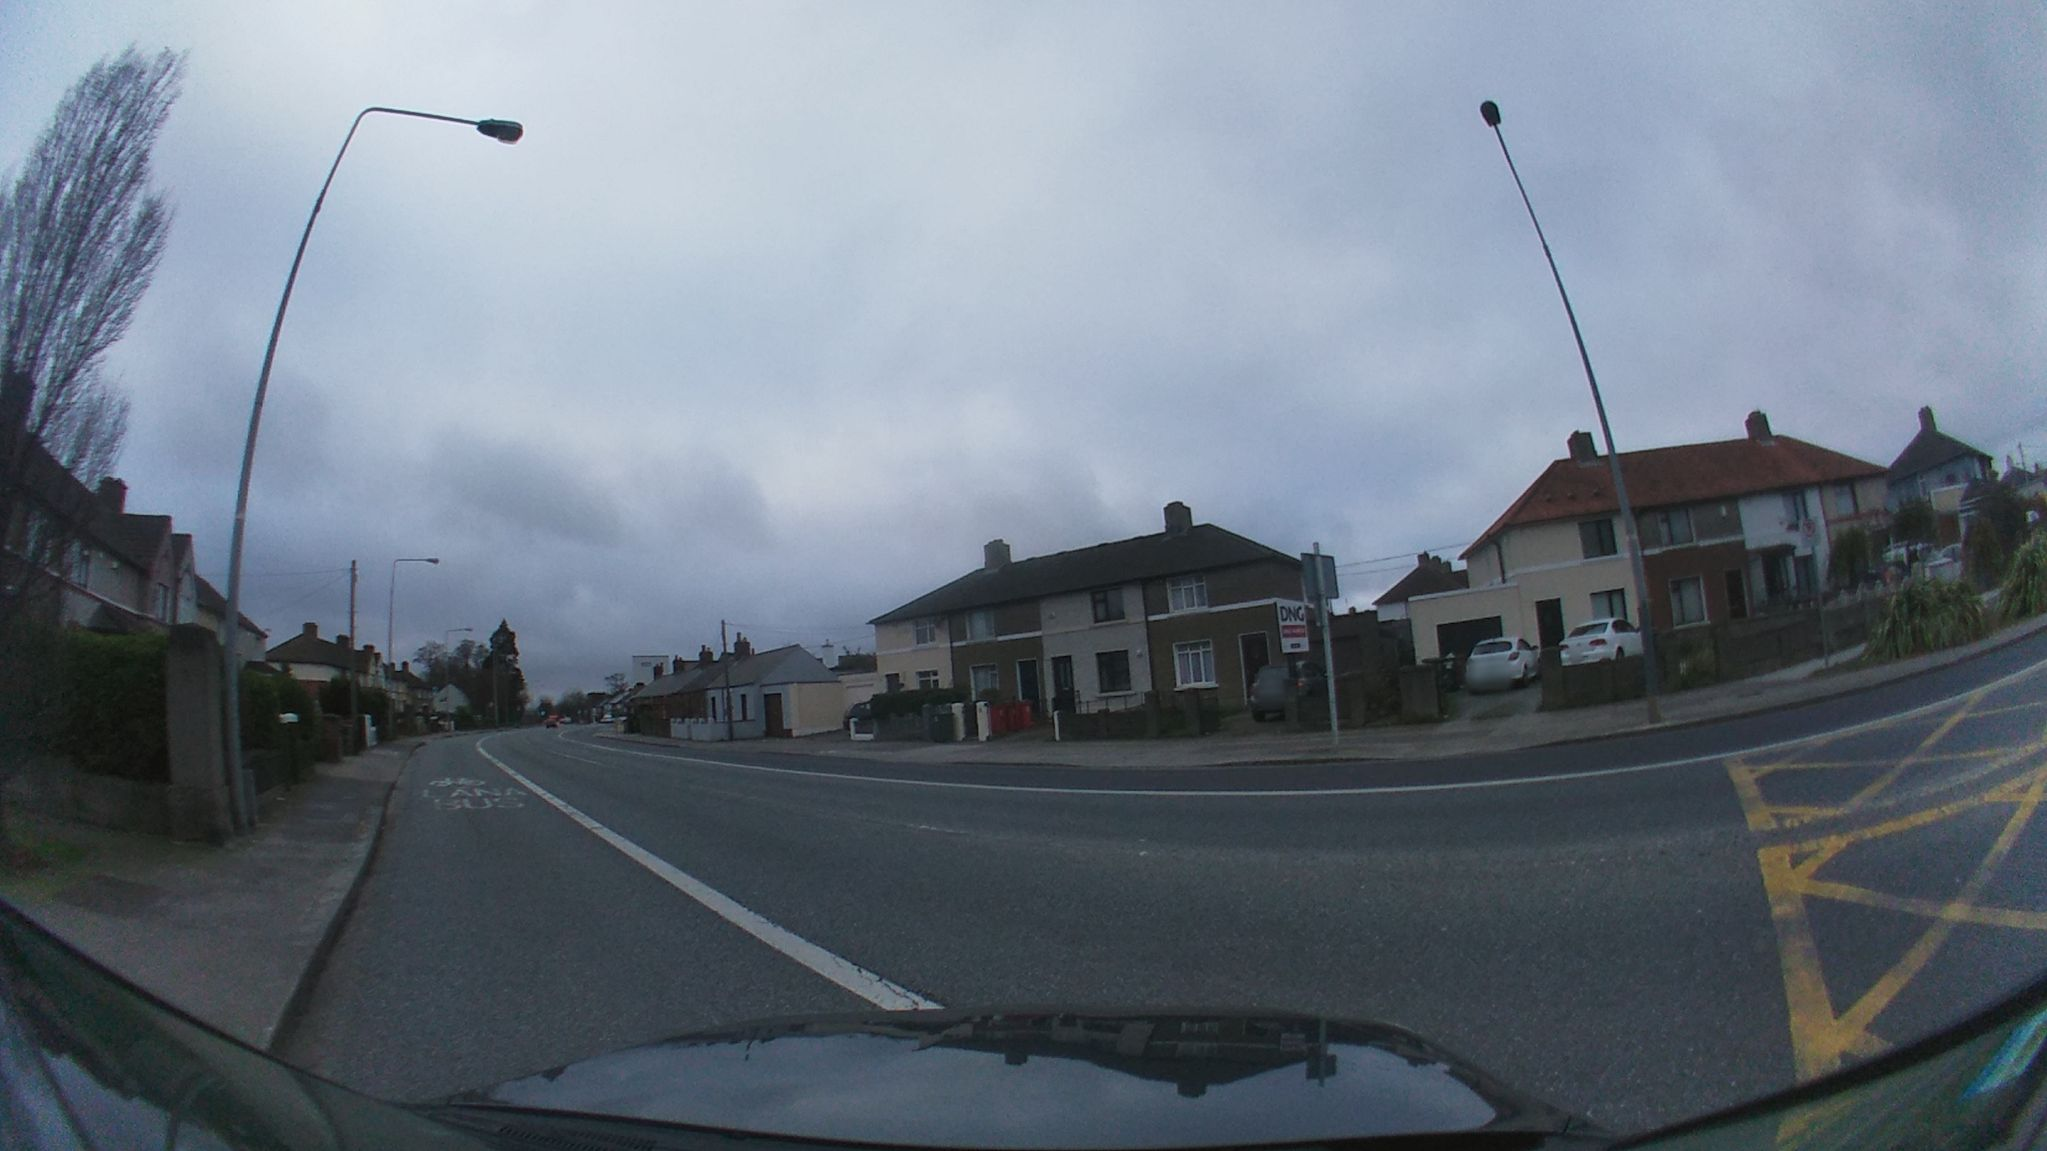property sign: (1265, 587, 1315, 663)
